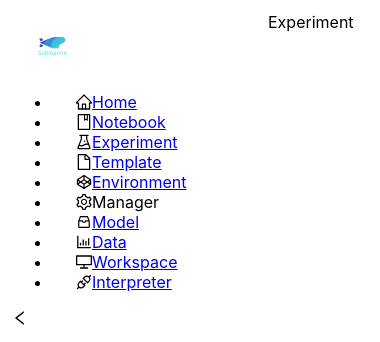
Test: Router test › Environment page router
Click the link with test id "environment-link": {"x": 139, "y": 182} x1=92 y1=172 x2=186 y2=192
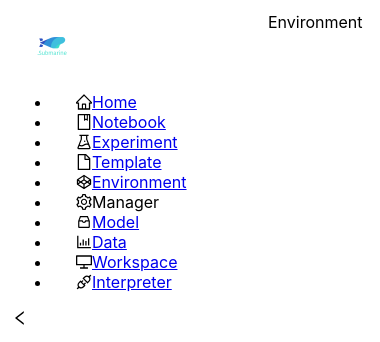
Expected: the element with test id "environment-page" is shown, x1=268 y1=12 x2=362 y2=32
